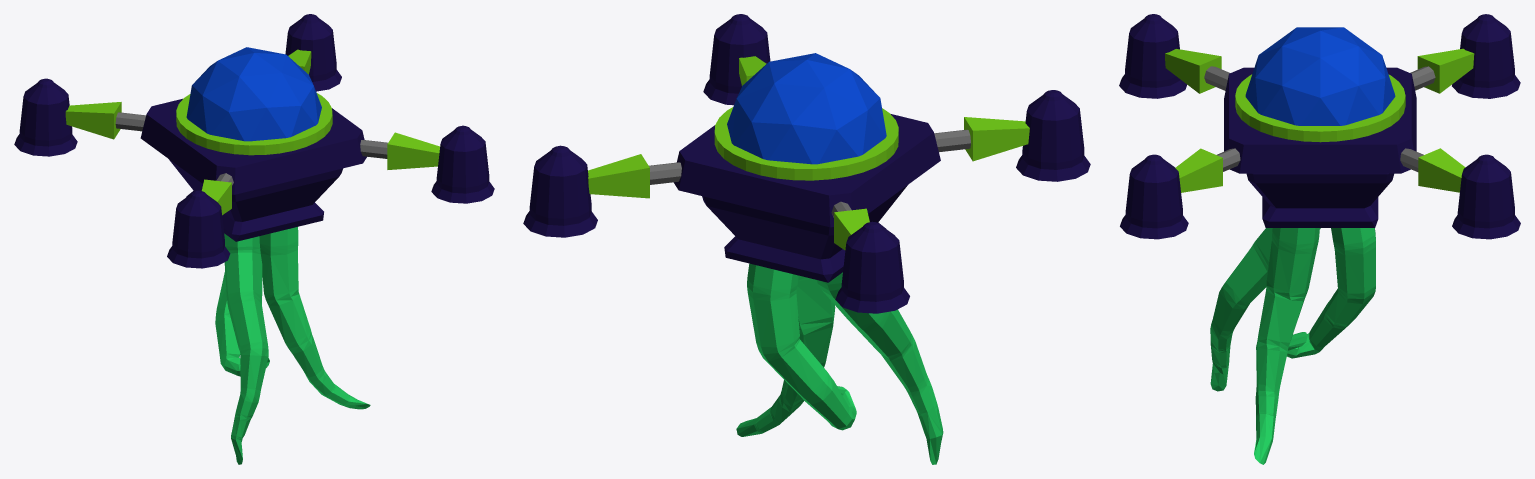
File: jellyfishBoss_5.obj
The picture shows the model from 3 angles, left to right: view 1: azimuth 30°, elevation 25°; view 2: azimuth 150°, elevation 25°; view 3: azimuth 270°, elevation 25°; orthographic projection. The views are drawn at different scales.
Visible parts, largest first — view 1: Base_Cube.001, Head_Icosphere, Cylinder.003_Cylinder.002, Cylinder.002_Cylinder.001, Rocket_1_Cylinder.003, Rocket_2_Cylinder.014, Rocket_3_Cylinder.016, Cylinder, Rocket_4_Cylinder.018, B_Arm_1_Cube.002, B_Arm_3_Cube.011, Cylinder.001_Cylinder.012 (+2 smaller); view 2: Base_Cube.001, Head_Icosphere, Cylinder.001_Cylinder.012, Cylinder.003_Cylinder.002, Rocket_3_Cylinder.016, Rocket_4_Cylinder.018, Rocket_2_Cylinder.014, Cylinder, Cylinder.002_Cylinder.001, Rocket_1_Cylinder.003, B_Arm_4_Cube.012, B_Arm_2_Cube.010 (+3 smaller); view 3: Base_Cube.001, Head_Icosphere, Cylinder.002_Cylinder.001, Cylinder.001_Cylinder.012, Rocket_1_Cylinder.003, Rocket_4_Cylinder.018, Cylinder.003_Cylinder.002, Rocket_3_Cylinder.016, Rocket_2_Cylinder.014, Cylinder, B_Arm_2_Cube.010, B_Arm_4_Cube.012 (+4 smaller).
Part boxes in pixels (left/top/right/bottom): Base_Cube.001: left=140, top=98, right=366, bottom=241; Head_Icosphere: left=186, top=47, right=321, bottom=141; Cylinder.003_Cylinder.002: left=224, top=233, right=268, bottom=464; Cylinder.002_Cylinder.001: left=259, top=227, right=370, bottom=409; Rocket_1_Cylinder.003: left=431, top=125, right=494, bottom=203; Rocket_2_Cylinder.014: left=167, top=190, right=230, bottom=268; Rocket_3_Cylinder.016: left=14, top=78, right=77, bottom=156; Cylinder: left=176, top=93, right=332, bottom=155; Rocket_4_Cylinder.018: left=285, top=14, right=341, bottom=91; B_Arm_1_Cube.002: left=387, top=132, right=439, bottom=169; B_Arm_3_Cube.011: left=65, top=102, right=121, bottom=139; Cylinder.001_Cylinder.012: left=215, top=271, right=269, bottom=376; Base_Cube.001: left=673, top=114, right=940, bottom=282; Head_Icosphere: left=727, top=53, right=886, bottom=164; Cylinder.001_Cylinder.012: left=747, top=263, right=856, bottom=430; Cylinder.003_Cylinder.002: left=816, top=272, right=943, bottom=464; Rocket_3_Cylinder.016: left=835, top=221, right=909, bottom=313; Rocket_4_Cylinder.018: left=523, top=145, right=597, bottom=237; Rocket_2_Cylinder.014: left=1016, top=90, right=1090, bottom=181; Cylinder: left=714, top=107, right=898, bottom=180; Cylinder.002_Cylinder.001: left=736, top=275, right=835, bottom=436; Rocket_1_Cylinder.003: left=703, top=14, right=770, bottom=105; B_Arm_4_Cube.012: left=588, top=154, right=649, bottom=198; B_Arm_2_Cube.010: left=964, top=117, right=1029, bottom=161; Base_Cube.001: left=1224, top=67, right=1416, bottom=227; Head_Icosphere: left=1245, top=27, right=1395, bottom=125; Cylinder.002_Cylinder.001: left=1254, top=228, right=1319, bottom=464; Cylinder.001_Cylinder.012: left=1286, top=228, right=1375, bottom=358; Rocket_1_Cylinder.003: left=1120, top=154, right=1188, bottom=239; Rocket_4_Cylinder.018: left=1452, top=154, right=1520, bottom=239; Cylinder.003_Cylinder.002: left=1210, top=228, right=1320, bottom=391; Rocket_3_Cylinder.016: left=1452, top=14, right=1520, bottom=98; Rocket_2_Cylinder.014: left=1119, top=14, right=1186, bottom=98; Cylinder: left=1235, top=74, right=1405, bottom=142; B_Arm_2_Cube.010: left=1165, top=49, right=1221, bottom=93; B_Arm_4_Cube.012: left=1418, top=148, right=1465, bottom=192.
Size of the model in its own units: 14.77 by 15.99 by 14.77.
